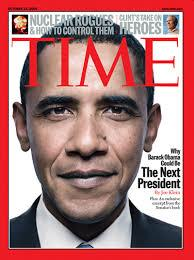Printing industry: (2, 2, 194, 260)
